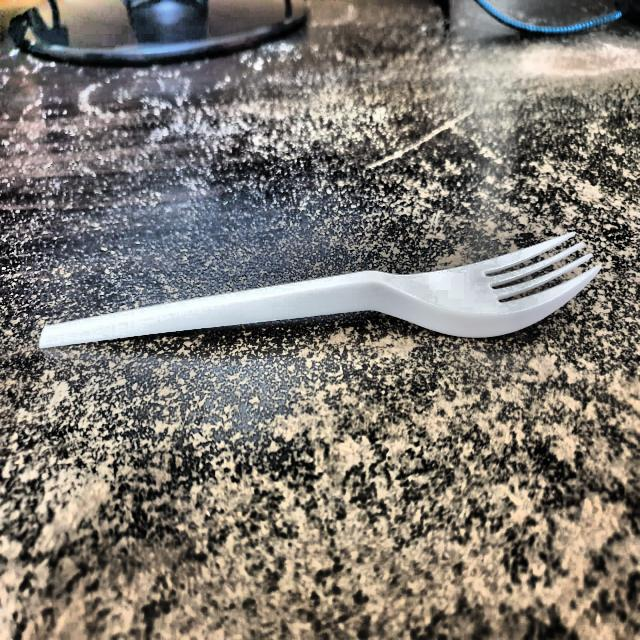plastic utensil: (39, 224, 602, 338)
